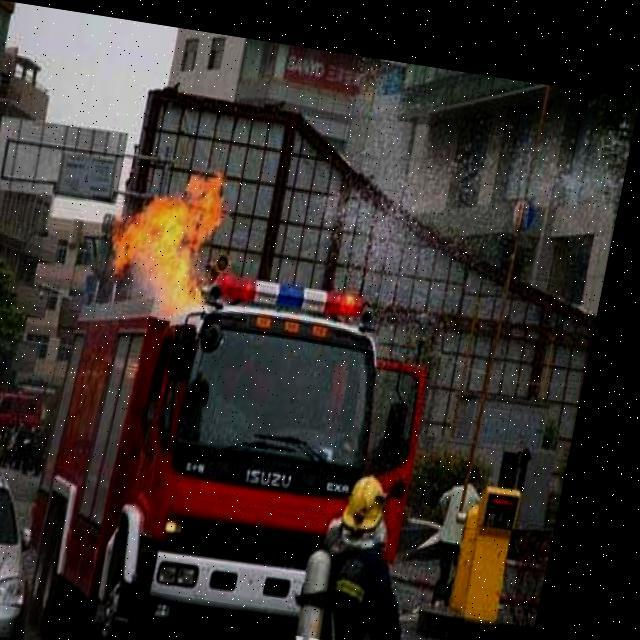Fire: (104, 157, 248, 329)
